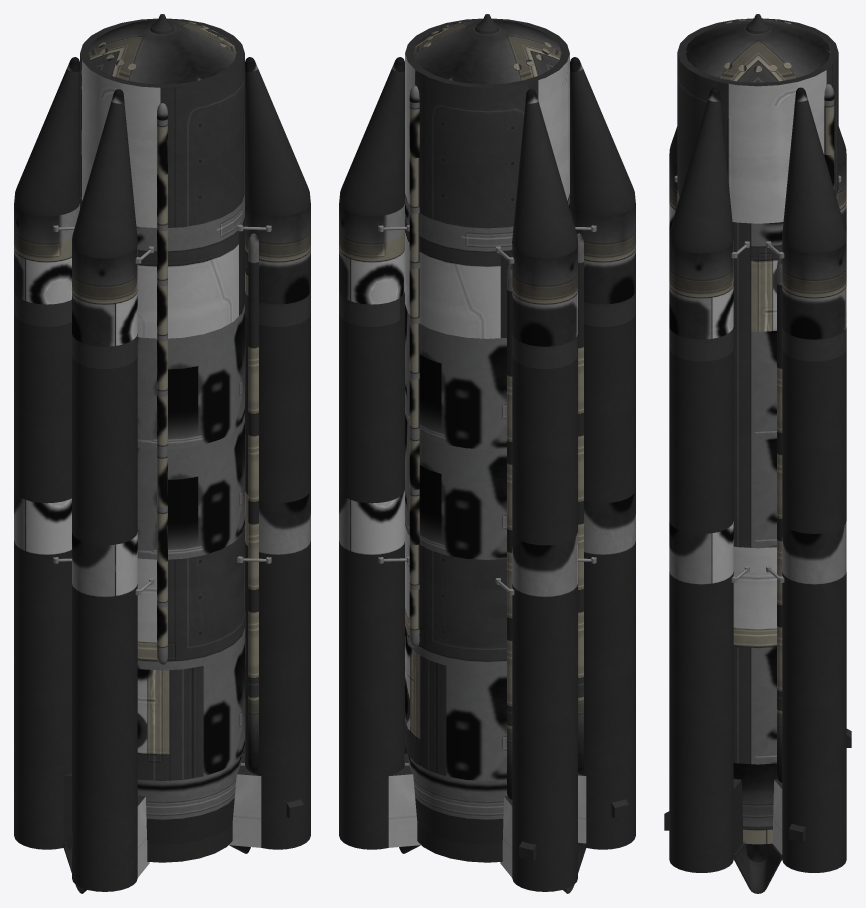
File: fuel1_light_extended.fbx
The picture shows the model from 3 angles, left to right: view 1: azimuth 30°, elevation 25°; view 2: azimuth 150°, elevation 25°; view 3: azimuth 270°, elevation 25°; orthographic projection. The views are drawn at different scales.
Parts seen in each view (by area): view 1: mesh; view 2: mesh; view 3: mesh.
Part boxes in pixels (x1,y1,x2,y2): mesh: (14,14,310,893); mesh: (339,14,635,893); mesh: (664,14,851,893).
Size of the model in its own units: 4.15 by 14.36 by 2.9.
